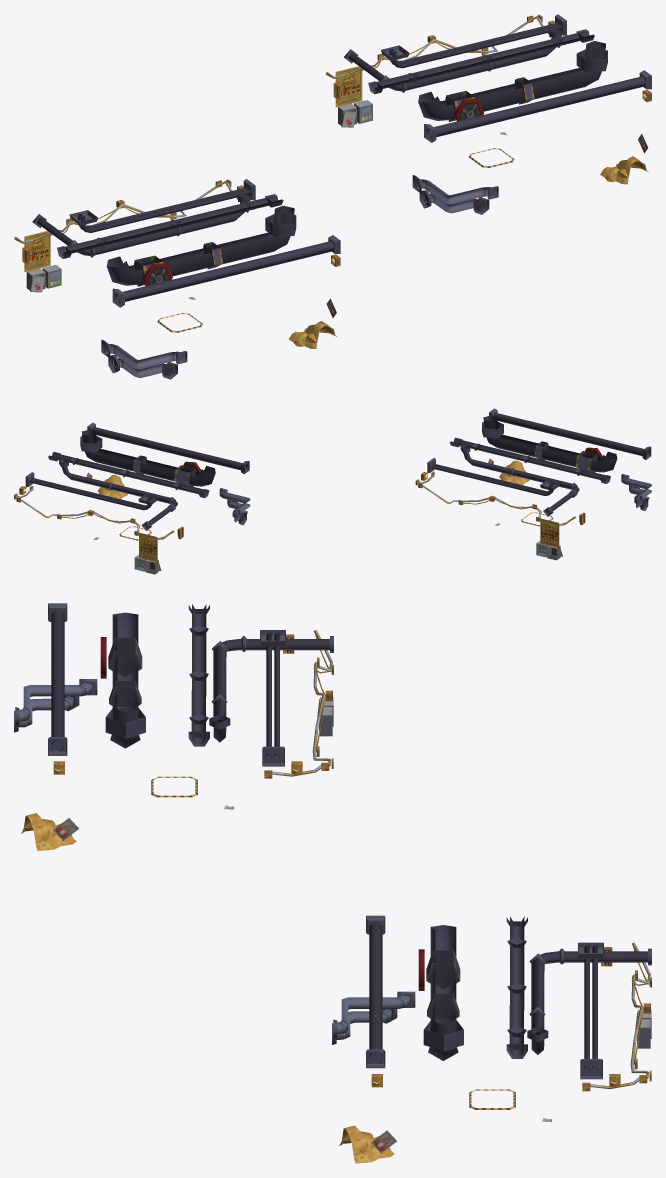
File: Combined_Mesh_root_scene__4_e0ea2853__zombies2_diffuse_04_b80f3c78_c1f257.obj
The picture shows the model from 3 angles, top to bottom: view 1: azimuth 30°, elevation 25°; view 2: azimuth 150°, elevation 25°; view 3: azimuth 270°, elevation 25°; orthographic projection. The views are drawn at different scales.
Size of the model in its own units: 60.44 by 12.39 by 40.1.
Materials: 30 (30 with a texture image).
